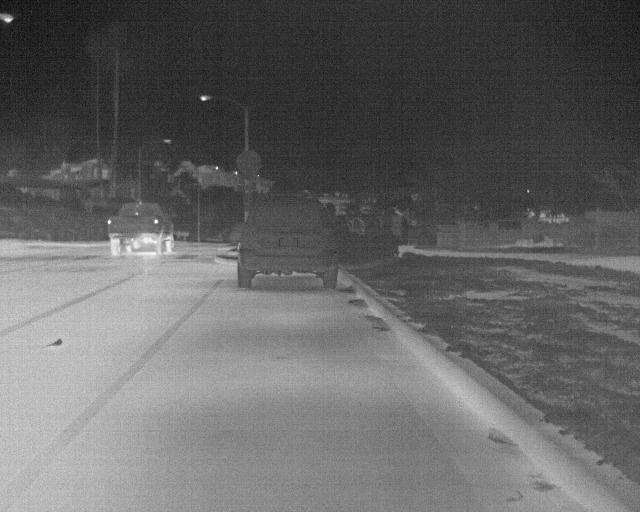car: (236, 193, 339, 289), (107, 201, 174, 259)
